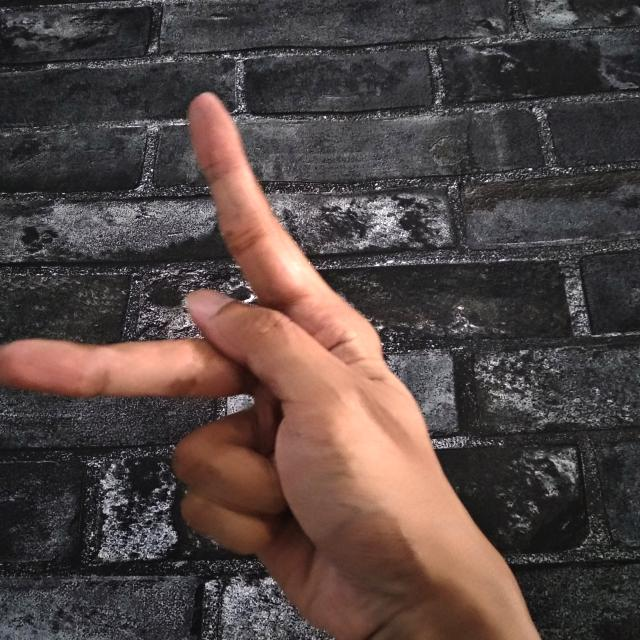K: (0, 88, 545, 640)
